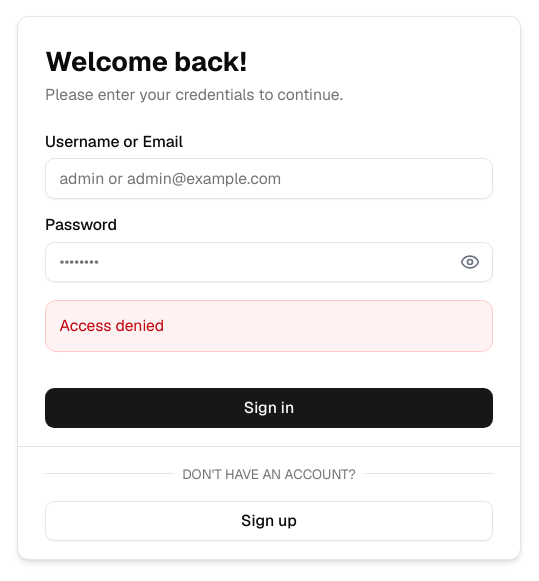
Test case: LoginForm › should handle generic error from signIn
The width and height of the screenshot is (539, 581).
Type "testuser" into the field labelled "Username or Email" at coordinates (269, 179), box [45, 158, 493, 199]
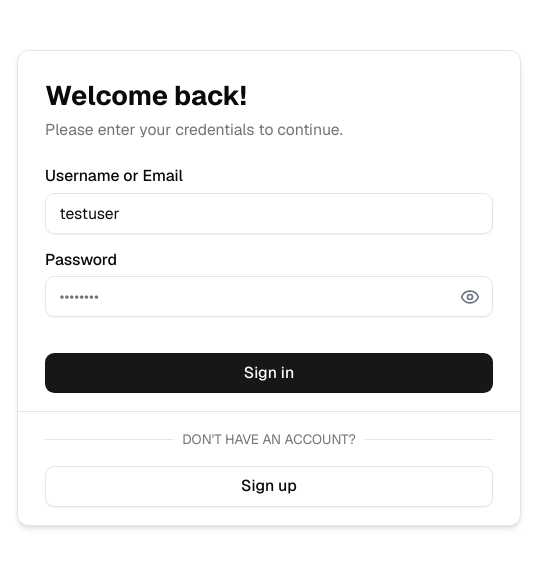
Type "password" into the password field labelled "Password" at coordinates (269, 297), box [45, 276, 493, 317]
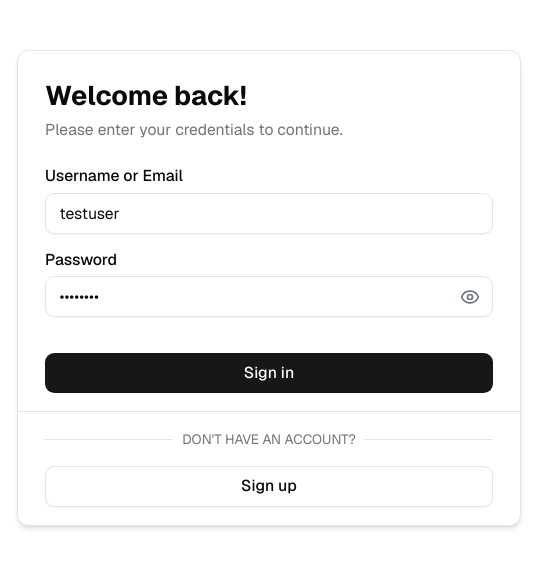
Click the button "Sign in" at coordinates (269, 373), box [45, 353, 493, 393]
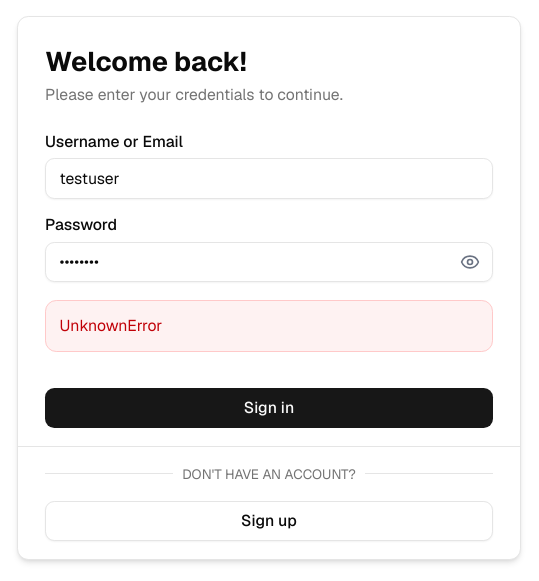
Expected: the text "UnknownError" is shown, [45, 300, 493, 352]
